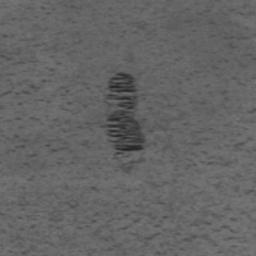Secondary rust skin: (105, 71, 146, 156)
